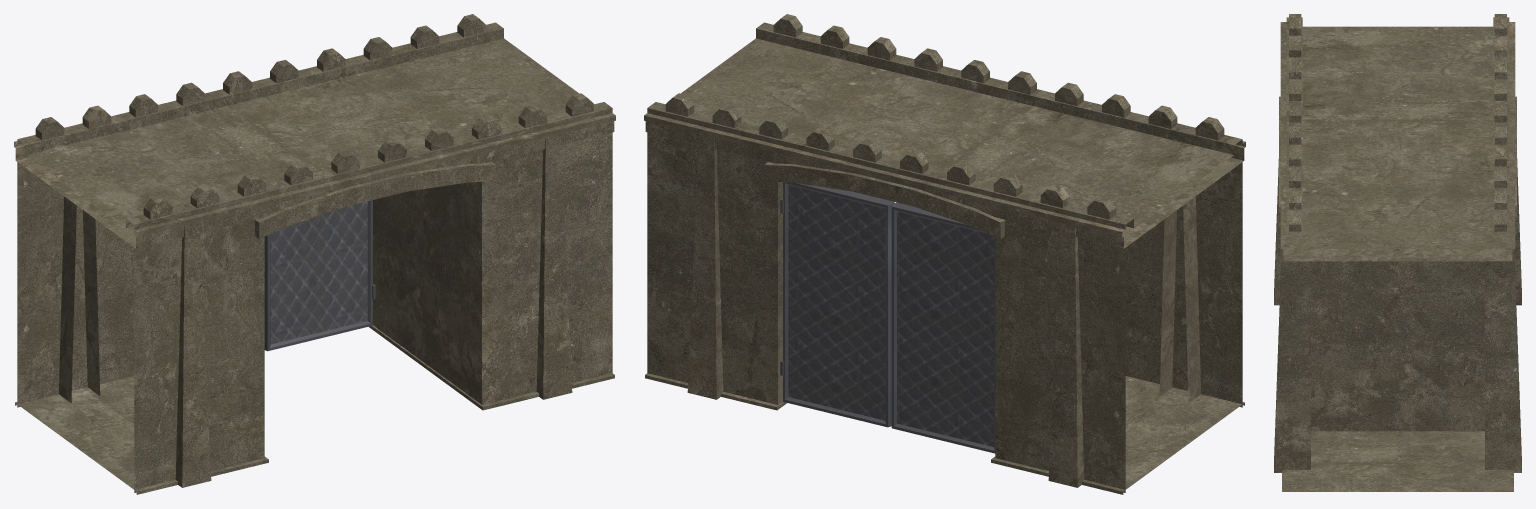
File: rampart_wall_gate.gltf
3 renders of one model, left to right at view 1: azimuth 30°, elevation 25°; view 2: azimuth 150°, elevation 25°; view 3: azimuth 270°, elevation 25°, orthographic. The views are drawn at different scales.
Visible parts, largest first — view 1: rampart_wall_gate; view 2: rampart_wall_gate; view 3: rampart_wall_gate.
Boxes of the visible parts, x1,y1,x2,y2 form: rampart_wall_gate: (14,14,615,494); rampart_wall_gate: (644,14,1245,494); rampart_wall_gate: (1274,14,1521,491).
Bounding box in the file's own units: 30 × 16.99 × 14.15.
2 materials, 2 textured.
